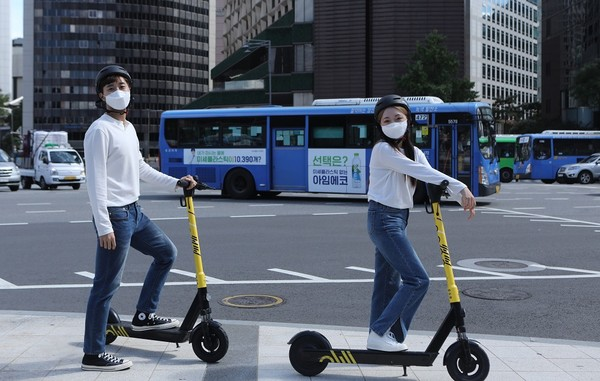scooter: (285, 174, 494, 381), (98, 174, 230, 367)
with helmet: (367, 93, 415, 149), (88, 64, 136, 117)
